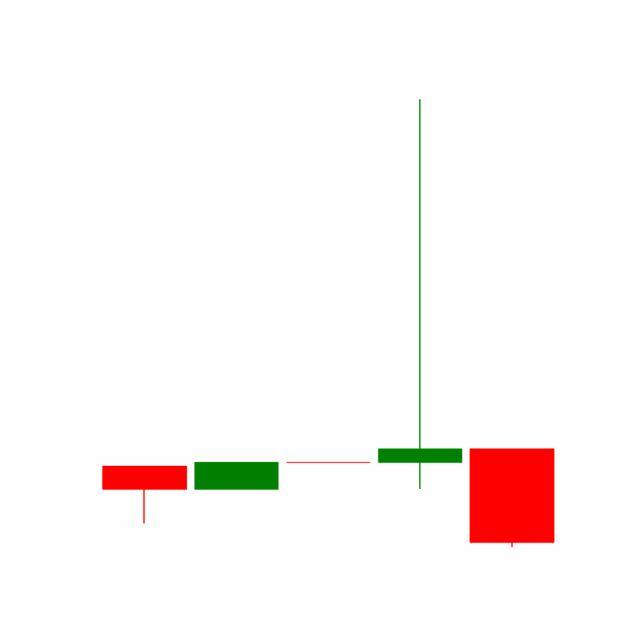Spinning Top: (374, 95, 468, 494)
